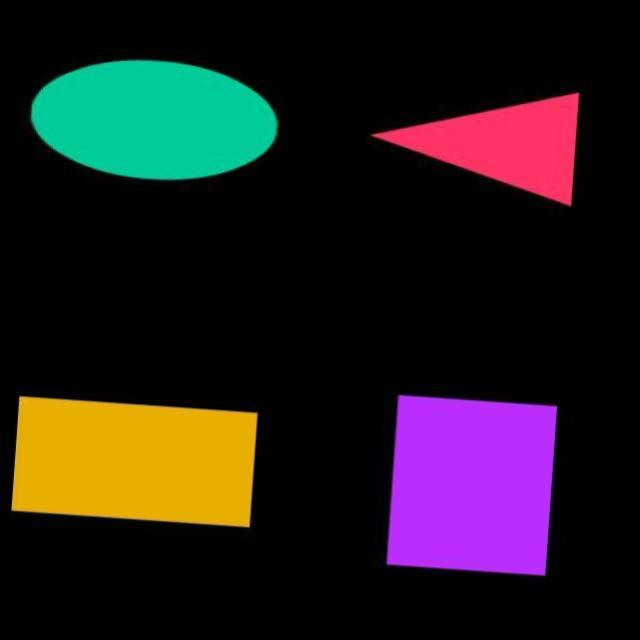square: (344, 353, 576, 613)
triangle: (349, 67, 619, 224)
